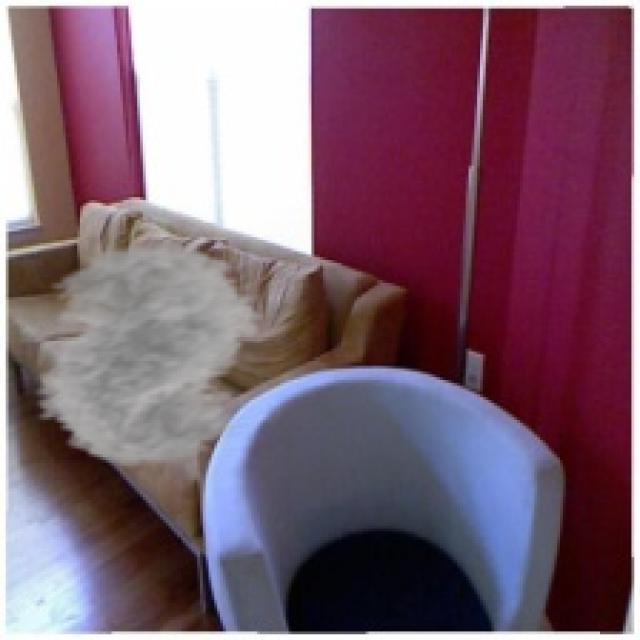Smoke: (6, 241, 283, 468)
